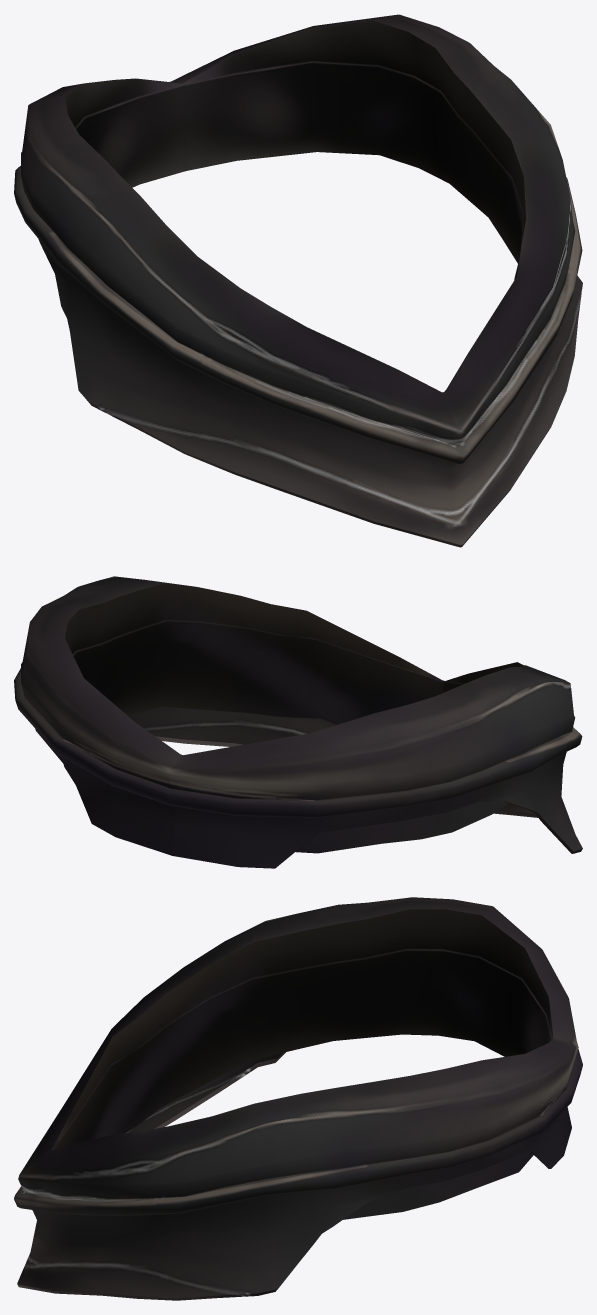
File: sm_skortched_human_chesst_add_01.gltf
The picture shows the model from 3 angles, top to bottom: view 1: azimuth 30°, elevation 25°; view 2: azimuth 150°, elevation 25°; view 3: azimuth 270°, elevation 25°; orthographic projection. The views are drawn at different scales.
Visible parts, largest first — view 1: sm_skortched_human_chesst_add_01; view 2: sm_skortched_human_chesst_add_01; view 3: sm_skortched_human_chesst_add_01.
Boxes of the visible parts, x1,y1,x2,y2 form: sm_skortched_human_chesst_add_01: [14, 14, 582, 547]; sm_skortched_human_chesst_add_01: [14, 576, 582, 868]; sm_skortched_human_chesst_add_01: [14, 897, 582, 1300].
Bounding box in the file's own units: 0.2562 × 0.1542 × 0.2661.
Materials: 1 (1 with a texture image).
